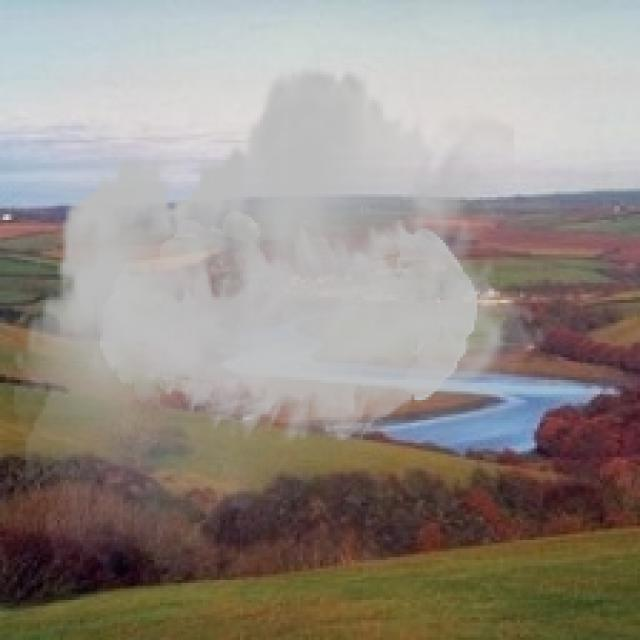smoke: (14, 46, 549, 597)
